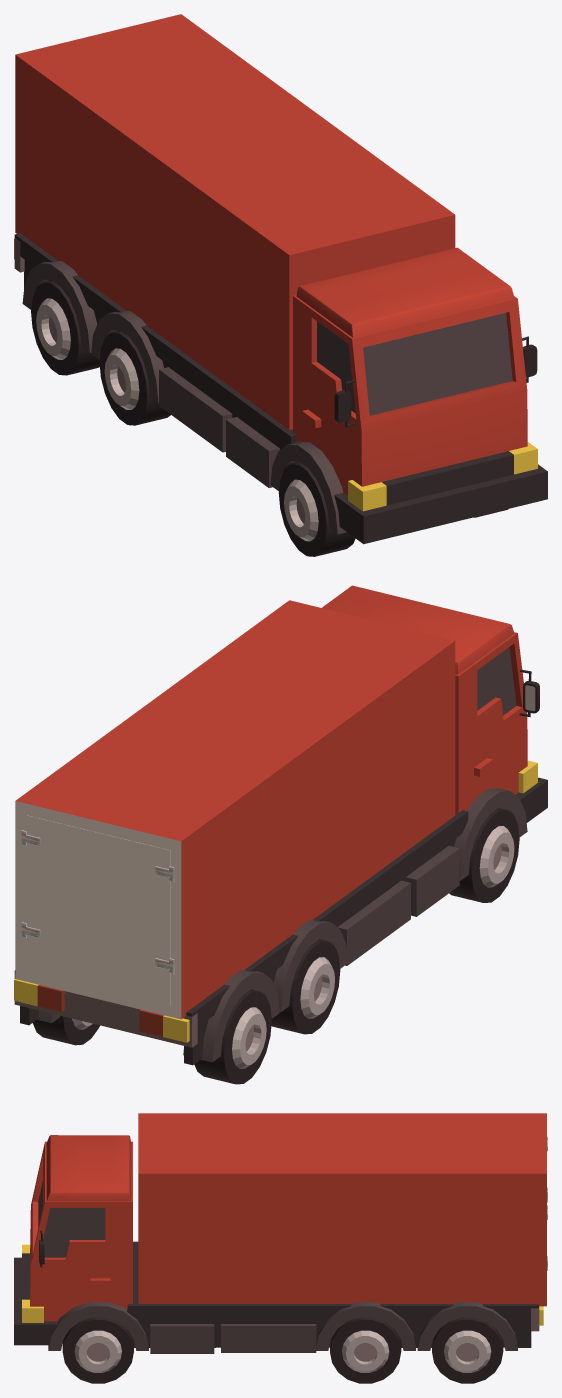
The model's file is Truck.fbx.
The picture shows the model from 3 angles, top to bottom: view 1: azimuth 30°, elevation 25°; view 2: azimuth 150°, elevation 25°; view 3: azimuth 270°, elevation 25°; orthographic projection. The views are drawn at different scales.
Parts seen in each view (by area): view 1: Truck; view 2: Truck; view 3: Truck.
Boxes of the visible parts, bbox=[...] form: Truck: bbox=[14, 14, 547, 556]; Truck: bbox=[14, 585, 547, 1084]; Truck: bbox=[14, 1113, 547, 1383].
Size of the model in its own units: 221 by 285 by 673.
